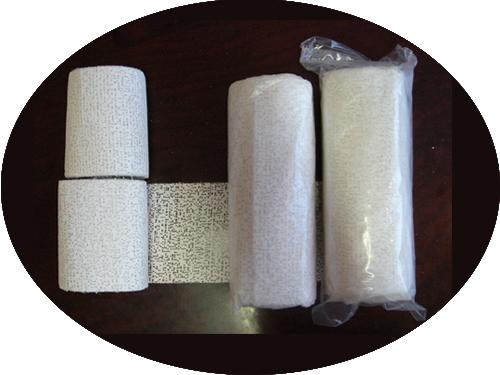bandage: (322, 67, 418, 303), (227, 74, 317, 308), (58, 180, 233, 291), (66, 69, 150, 179)
